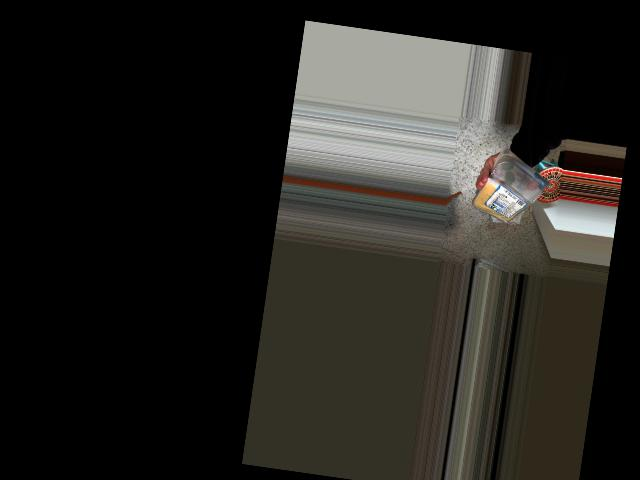cheese: (478, 151, 553, 234)
